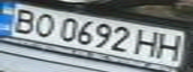0: (54, 15, 81, 43)
2: (112, 24, 136, 54)
6: (75, 18, 96, 46)
9: (90, 20, 115, 51)
B: (6, 6, 42, 34)
H: (154, 30, 187, 62), (133, 28, 163, 58)
O: (30, 10, 60, 38)
